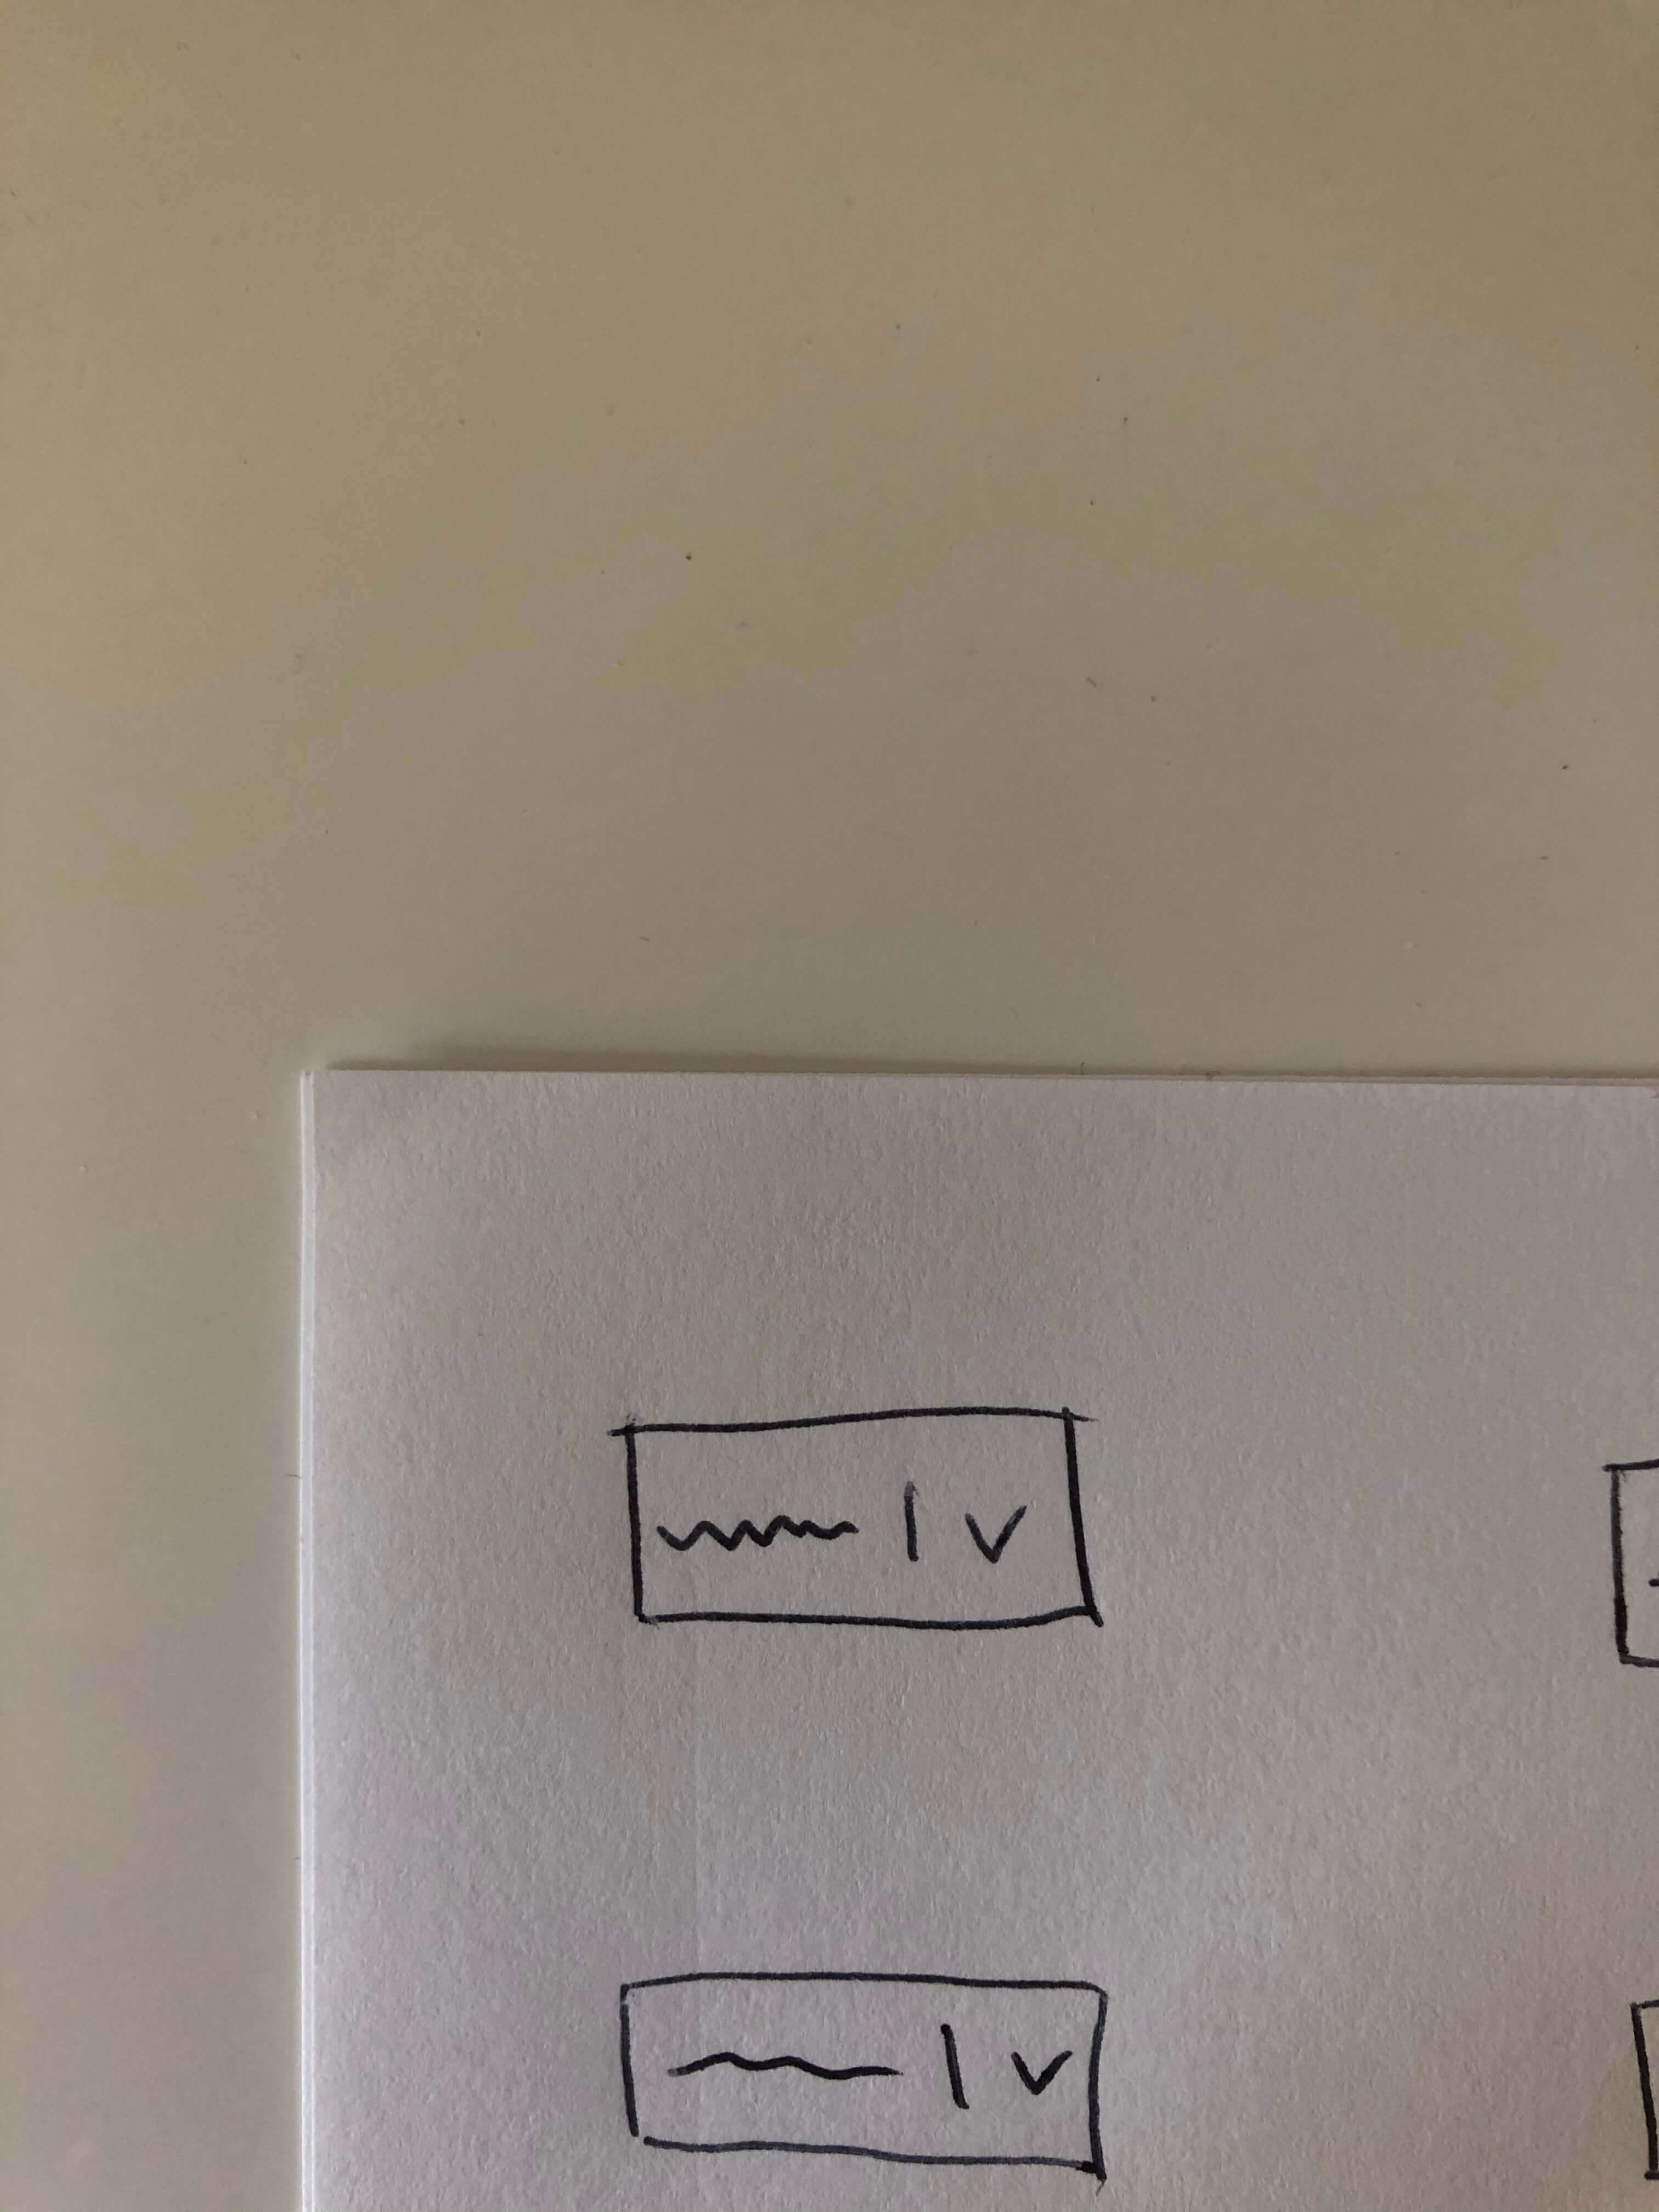split-button: (610, 1395, 1133, 1686), (603, 1952, 1131, 2202)
